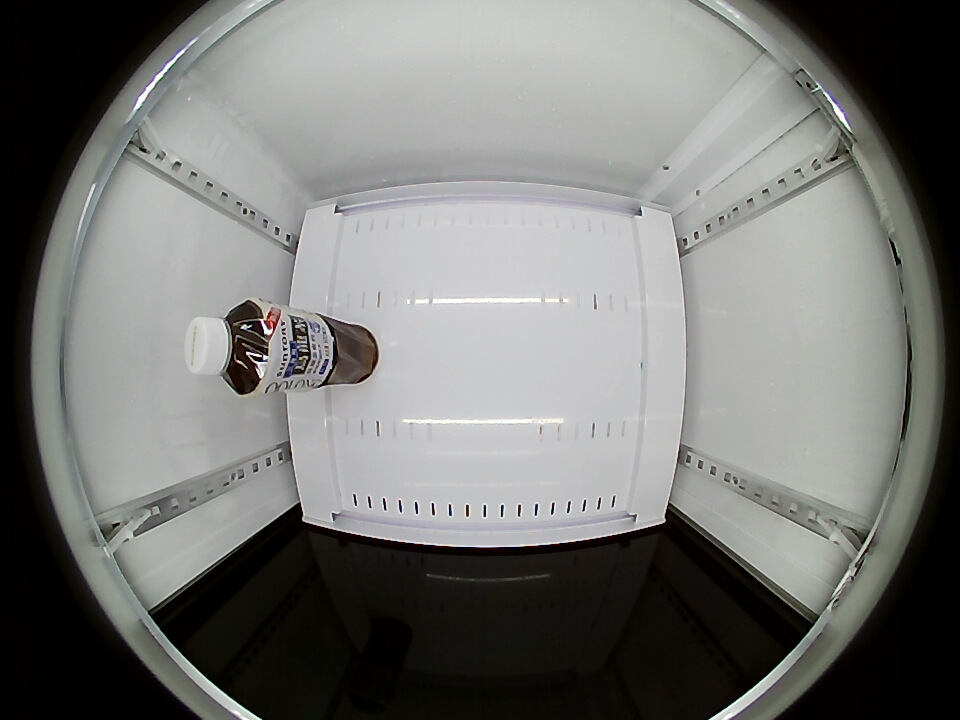wulongcha: (184, 298, 280, 395)
